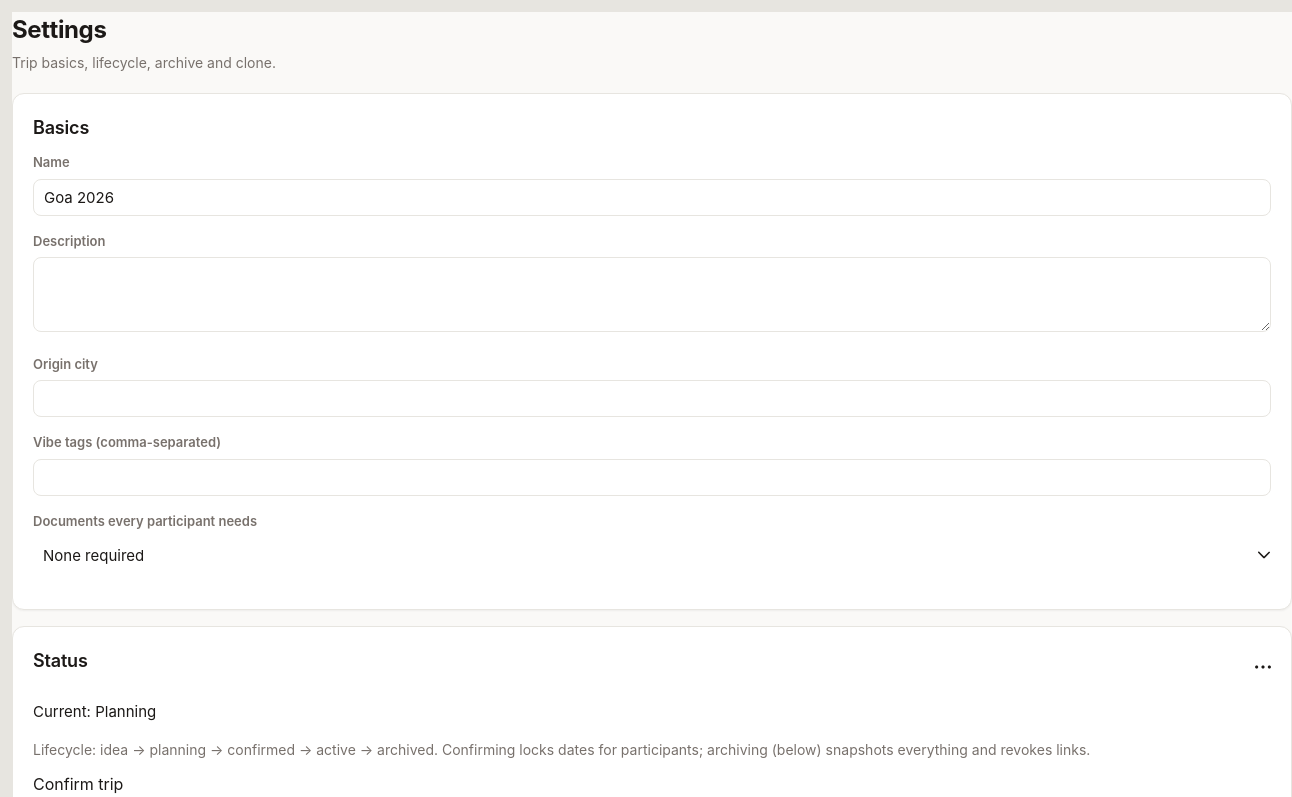
Test: TripSettingsView › Status card ⋯ (Archive + Clone) and Save-when-dirty › Basics Save changes is absent when clean and appears once dirty
Replace the text in the field with id "ts-name" with "Goa 2027": (652, 197) x1=33 y1=178 x2=1271 y2=216
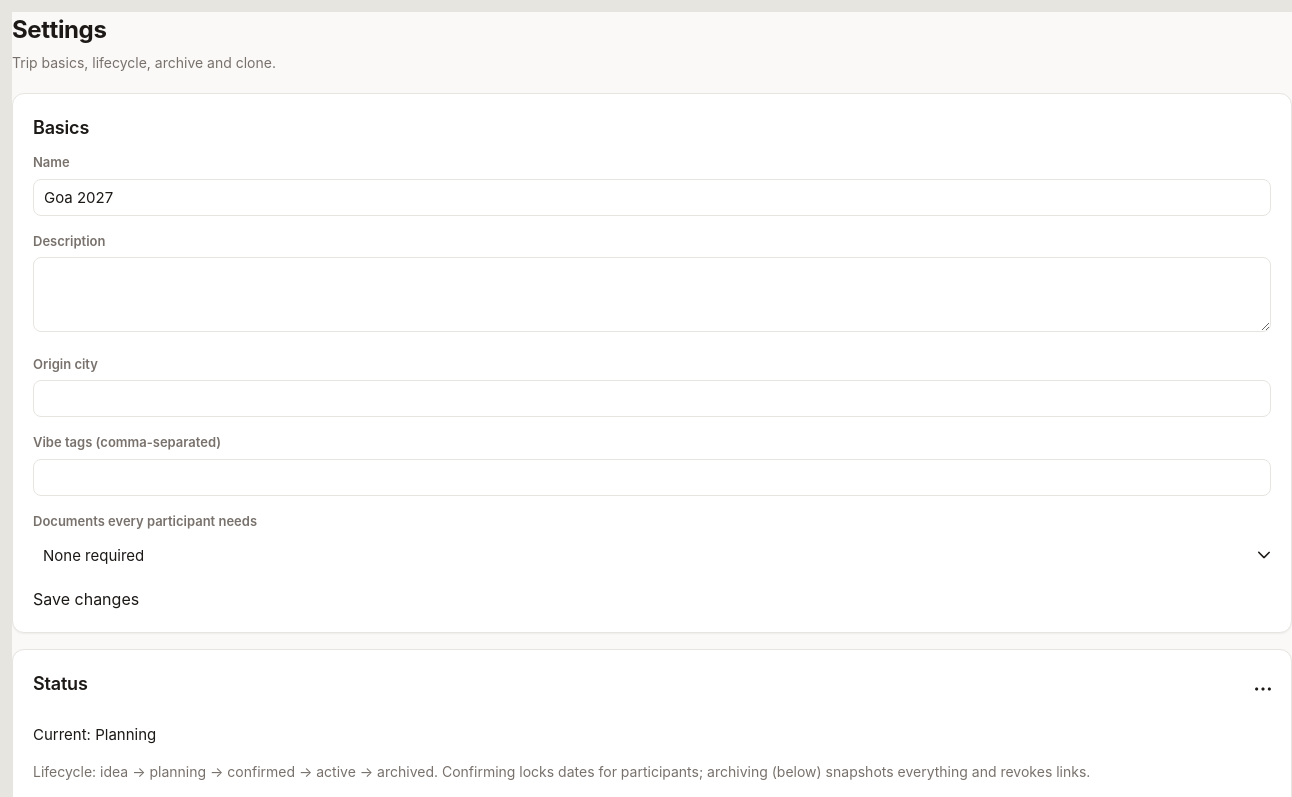
Check: the button "Save changes" is enabled, box x1=33 y1=589 x2=139 y2=609
